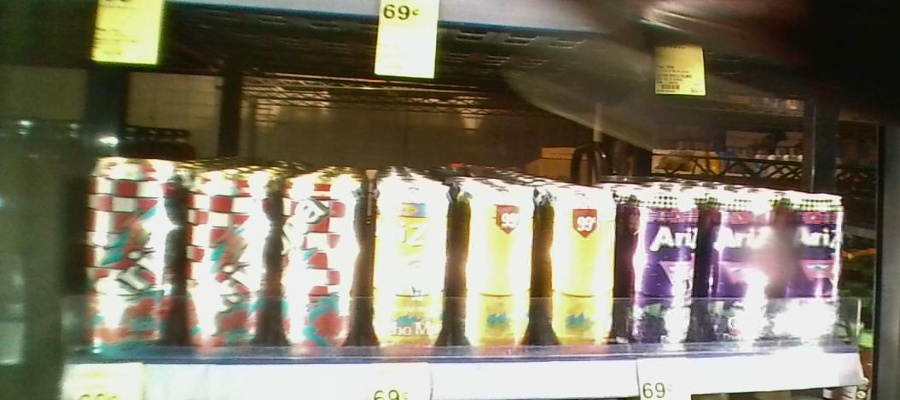bottle: (78, 151, 183, 359), (184, 159, 277, 363), (369, 163, 455, 361), (282, 157, 366, 354), (458, 167, 538, 358), (541, 167, 617, 359), (623, 176, 699, 357), (704, 173, 773, 358), (778, 175, 845, 354)
